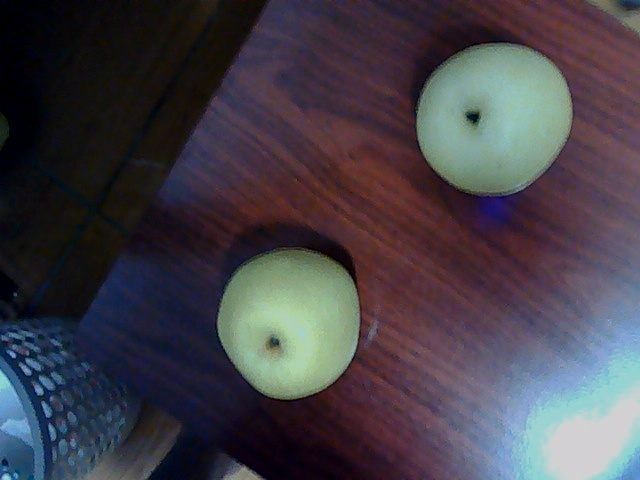pear: (412, 42, 577, 197), (211, 253, 369, 399)
